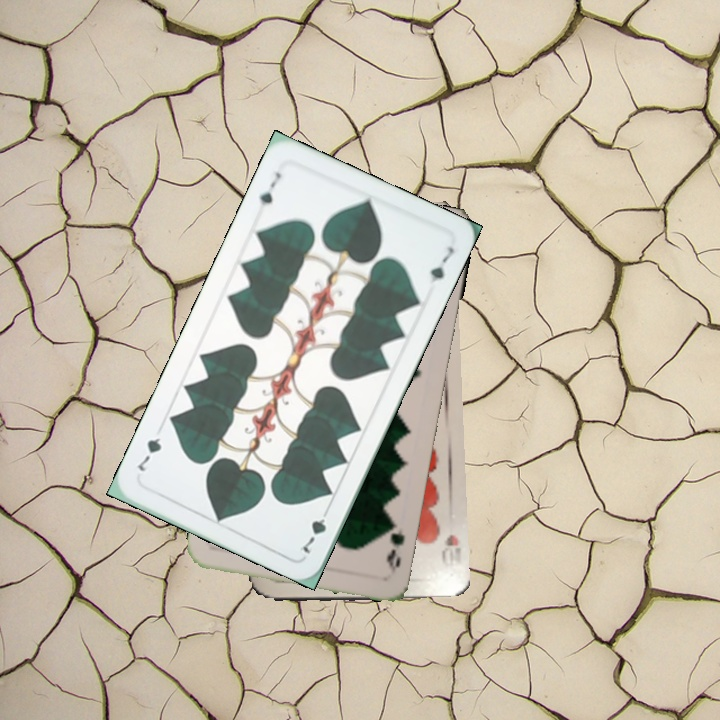G7: (298, 502, 333, 557), (255, 167, 284, 208)
G9: (382, 516, 408, 577)
H10: (438, 530, 463, 572)
